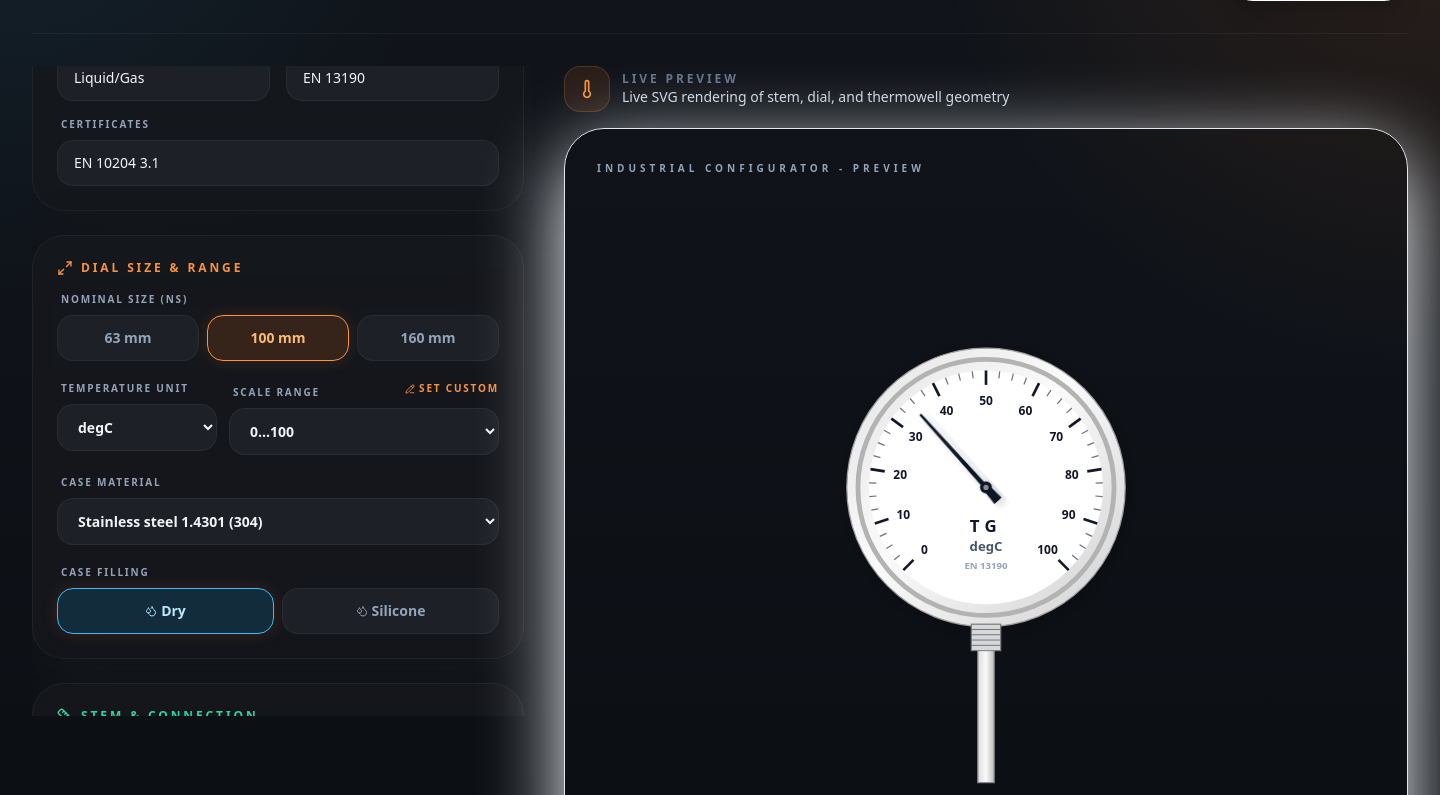
Scenario: ConfiguratorPage › toggles to custom range mode
(page scrolled)
Click the button "Set Custom" at (452, 390), box [405,381,499,400]
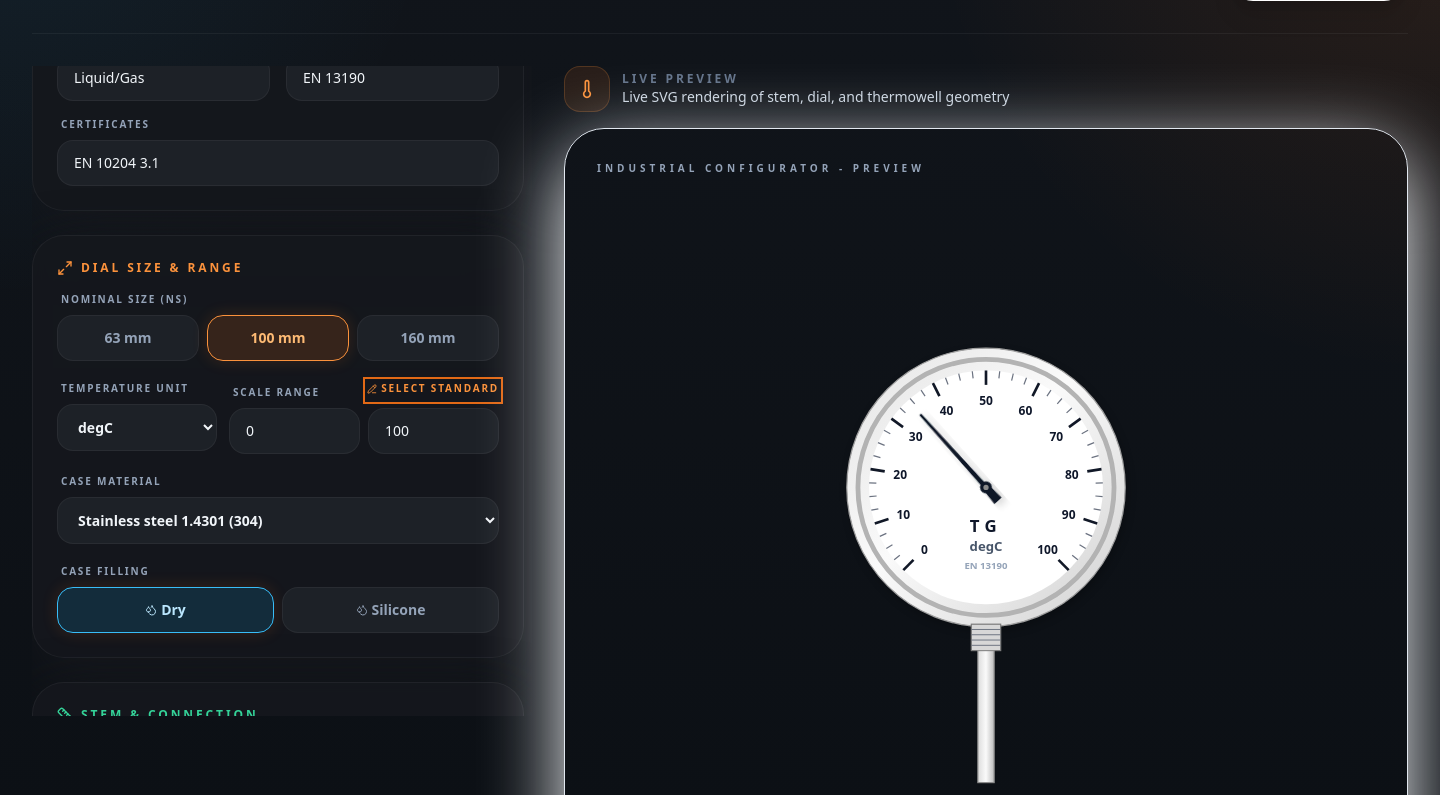
Expected: the number of number fields with placeholder "Min" is 2, [229,408,360,454]; [368,408,499,454]
